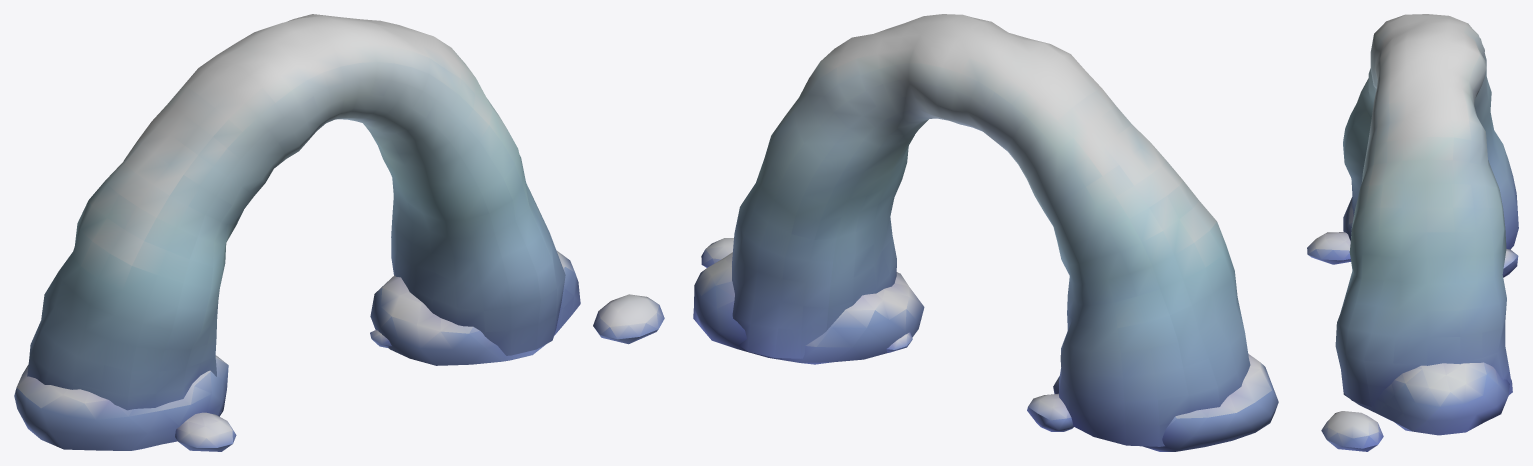
Rendered from glass_arch_ice_a.glb.
The picture shows the model from 3 angles, left to right: view 1: azimuth 30°, elevation 25°; view 2: azimuth 150°, elevation 25°; view 3: azimuth 270°, elevation 25°; orthographic projection. The views are drawn at different scales.
Visible parts, largest first — view 1: glass_arch_ice_a; view 2: glass_arch_ice_a; view 3: glass_arch_ice_a.
Part boxes in pixels (bbox=[...]): glass_arch_ice_a: bbox=[14, 14, 664, 451]; glass_arch_ice_a: bbox=[693, 14, 1278, 451]; glass_arch_ice_a: bbox=[1307, 14, 1518, 451].
Size of the model in its own units: 15.98 by 8.76 by 5.61.
